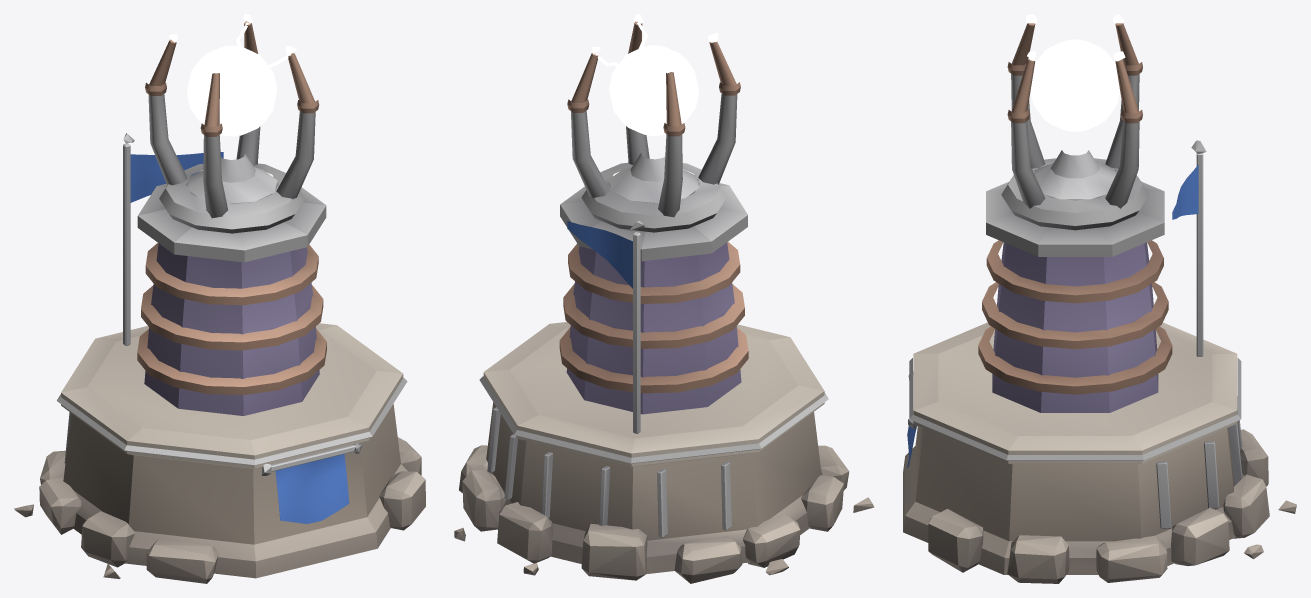
Rendered from spark_0_2.glb.
3 views of the same model, side by side, from view 1: azimuth 30°, elevation 25°; view 2: azimuth 150°, elevation 25°; view 3: azimuth 270°, elevation 25° (orthographic).
Visible parts, largest first — view 1: Tower, Turret; view 2: Tower, Turret; view 3: Tower, Turret.
Part boxes in pixels (<box>): Tower: <box>14,133,425,583</box>; Turret: <box>145,14,319,233</box>; Tower: <box>454,176,874,583</box>; Turret: <box>567,14,740,232</box>; Tower: <box>903,140,1296,583</box>; Turret: <box>1001,14,1149,230</box>.
Size of the model in its own units: 3.56 by 4.68 by 3.51.
